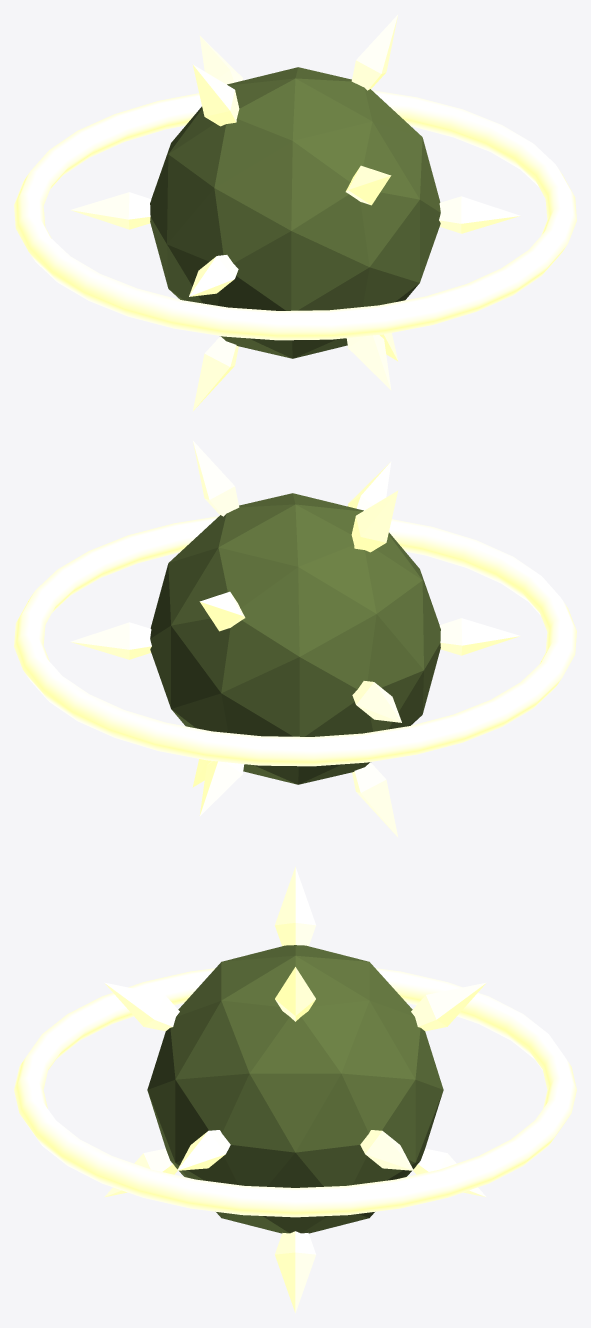
The model's file is Ion-Mine-v3.0.0.glb.
3 views of the same model, one above another, from view 1: azimuth 30°, elevation 25°; view 2: azimuth 150°, elevation 25°; view 3: azimuth 270°, elevation 25° (orthographic).
Parts seen in each view (by area): view 1: core, halo, spike09, spike10, spike00, spike01, spike02, spike11, spike04, spike05, spike07; view 2: core, halo, spike08, spike11, spike00, spike01, spike02, spike10, spike06, spike07, spike05; view 3: core, halo, spike03, spike00, spike05, spike07, spike08, spike09, spike01, spike04, spike06.
Part boxes in pixels (x1,y1,x2,y2): core: (150, 67, 440, 358); halo: (14, 90, 576, 340); spike09: (439, 196, 520, 233); spike10: (70, 192, 151, 229); spike00: (192, 64, 239, 126); spike01: (351, 14, 398, 90); spike02: (192, 336, 238, 411); spike11: (189, 255, 238, 296); spike04: (346, 335, 391, 390); spike05: (345, 165, 391, 205); spike07: (199, 35, 243, 84); core: (150, 493, 440, 784); halo: (14, 516, 576, 766); spike08: (70, 622, 151, 659); spike11: (439, 618, 520, 655); spike00: (351, 490, 398, 552); spike01: (192, 440, 239, 516); spike02: (352, 762, 398, 837); spike10: (352, 681, 401, 722); spike06: (199, 761, 244, 816); spike07: (199, 591, 245, 631); spike05: (347, 461, 391, 510); core: (147, 945, 443, 1233); halo: (14, 968, 576, 1217); spike03: (274, 1231, 316, 1313); spike00: (274, 866, 316, 946); spike05: (104, 982, 179, 1031); spike07: (411, 982, 486, 1031); spike08: (360, 1130, 413, 1170); spike09: (177, 1130, 230, 1170); spike01: (275, 967, 315, 1021); spike04: (104, 1148, 177, 1197); spike06: (413, 1148, 486, 1197).
Bounding box in the file's own units: 1.9 × 1.29 × 1.9.
